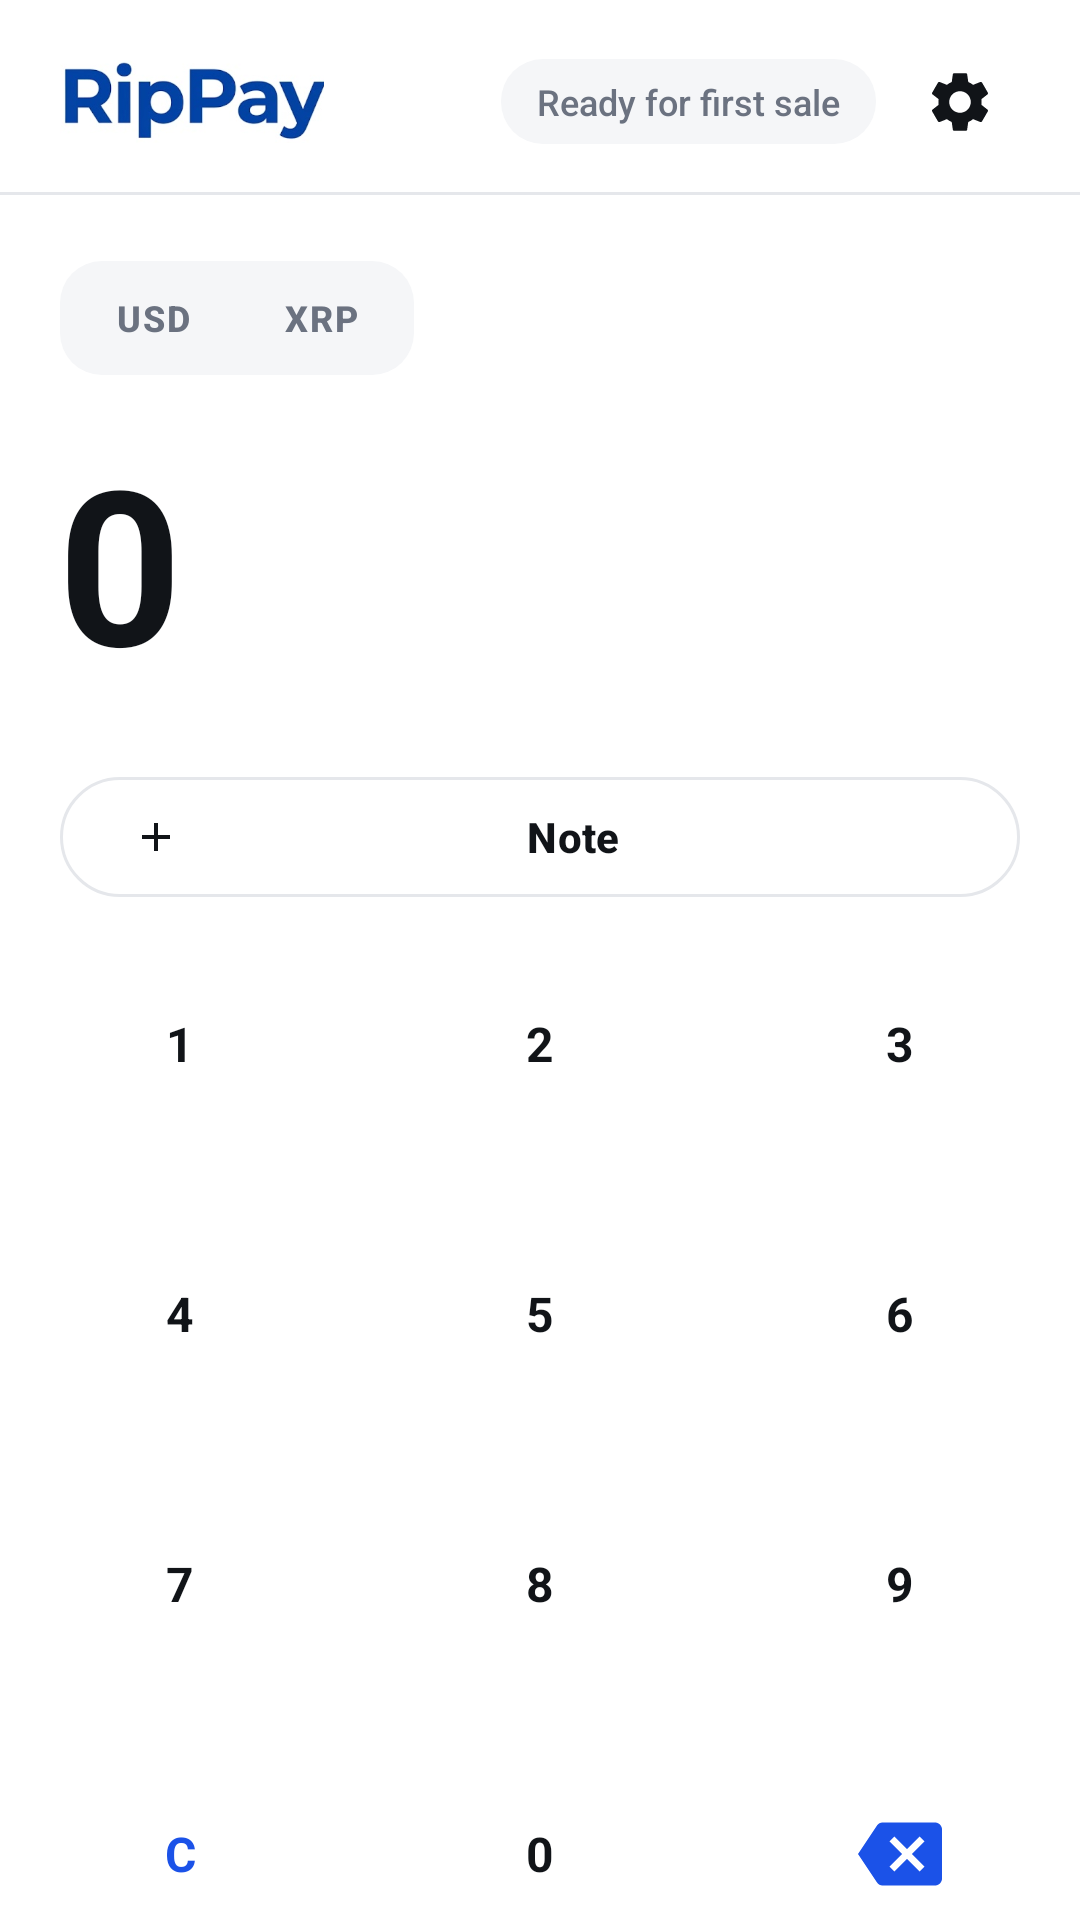

Icons on this 1080px x 1920px Android screen, each with its box as box=[x1, y1, x2, y2]:
Settings: box=[932, 73, 988, 131]
